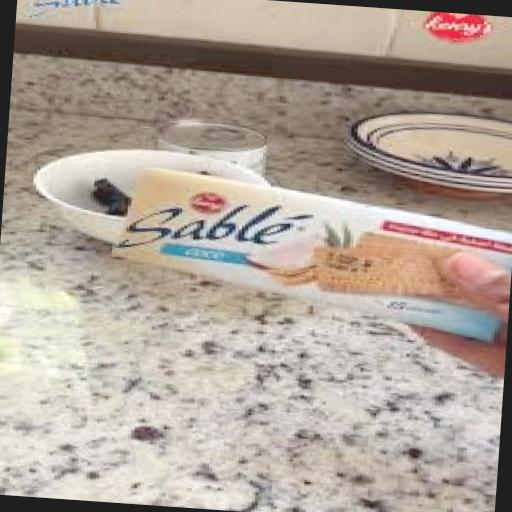sabl: (74, 115, 512, 400)
